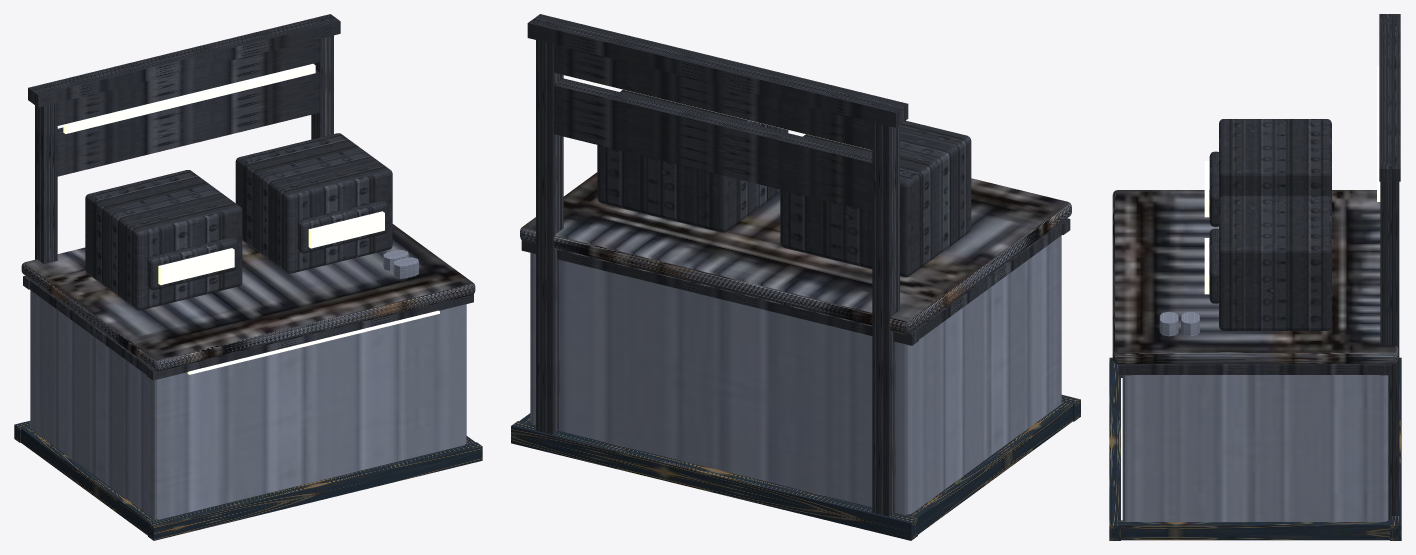
Rendered from transit_drinkbar.glb.
3 renders of one model, left to right at view 1: azimuth 30°, elevation 25°; view 2: azimuth 150°, elevation 25°; view 3: azimuth 270°, elevation 25°, orthographic. The views are drawn at different scales.
Visible parts, largest first — view 1: counter, sight_shell, top, machine0, machine1, shelltoe0, shelltoes0, shellrim0, sightglow, mglow0, mglow1, mglow0_g (+3 smaller); view 2: counter, sight_shell, top, machine0, shelltoe2, machine1, shelltoes0, shellrim2, shellrims0; view 3: counter, top, machine1, sight_shell, machine0, shelltoes2, shellrims2, shelltoe0, shelltoe2, mglow1, mglow0, sightglow.
Boxes of the visible parts, left/top/right/bottom form: counter: left=30, top=290, right=466, bottom=519; sight_shell: left=28, top=14, right=340, bottom=263; top: left=21, top=224, right=475, bottom=371; machine0: left=85, top=170, right=242, bottom=310; machine1: left=235, top=133, right=392, bottom=273; shelltoe0: left=148, top=442, right=482, bottom=540; shelltoes0: left=19, top=426, right=159, bottom=535; shellrim0: left=147, top=294, right=473, bottom=380; sightglow: left=63, top=63, right=315, bottom=133; mglow0: left=147, top=237, right=237, bottom=289; mglow1: left=297, top=200, right=387, bottom=253; mglow0_g: left=158, top=248, right=234, bottom=285; counter: left=530, top=235, right=1061, bottom=515; sight_shell: left=527, top=14, right=908, bottom=516; top: left=520, top=172, right=1071, bottom=334; machine0: left=780, top=120, right=971, bottom=277; shelltoe2: left=511, top=421, right=917, bottom=540; machine1: left=597, top=89, right=788, bottom=232; shelltoes0: left=905, top=401, right=1072, bottom=534; shellrim2: left=521, top=240, right=918, bottom=345; shellrims0: left=916, top=221, right=1063, bottom=339; counter: left=1122, top=375, right=1388, bottom=521; top: left=1112, top=190, right=1398, bottom=364; machine1: left=1219, top=195, right=1331, bottom=330; sight_shell: left=1379, top=14, right=1400, bottom=520; machine0: left=1219, top=119, right=1331, bottom=199; shelltoes2: left=1117, top=520, right=1393, bottom=540; shellrims2: left=1128, top=364, right=1383, bottom=374; shelltoe0: left=1109, top=357, right=1120, bottom=540; shelltoe2: left=1390, top=357, right=1401, bottom=540; mglow1: left=1209, top=228, right=1218, bottom=303; mglow0: left=1209, top=151, right=1218, bottom=226; sightglow: left=1377, top=66, right=1380, bottom=201.
Bounding box in the file's own units: 1.68 × 1.7 × 1.23.
Materials: 8 (6 with a texture image).
